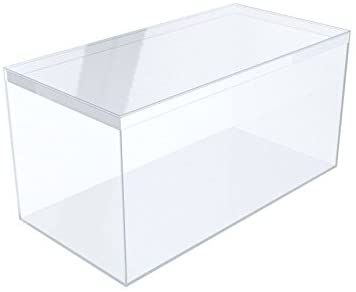PlasticBox: (2, 1, 352, 287)
